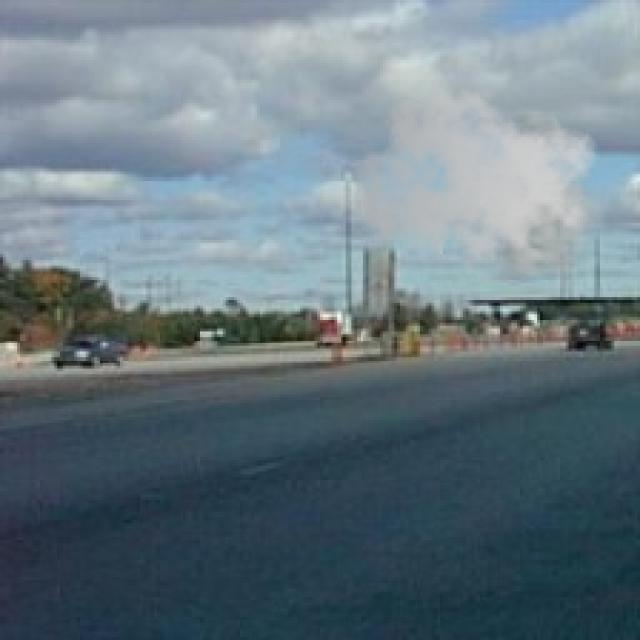smoke: (351, 80, 606, 289)
